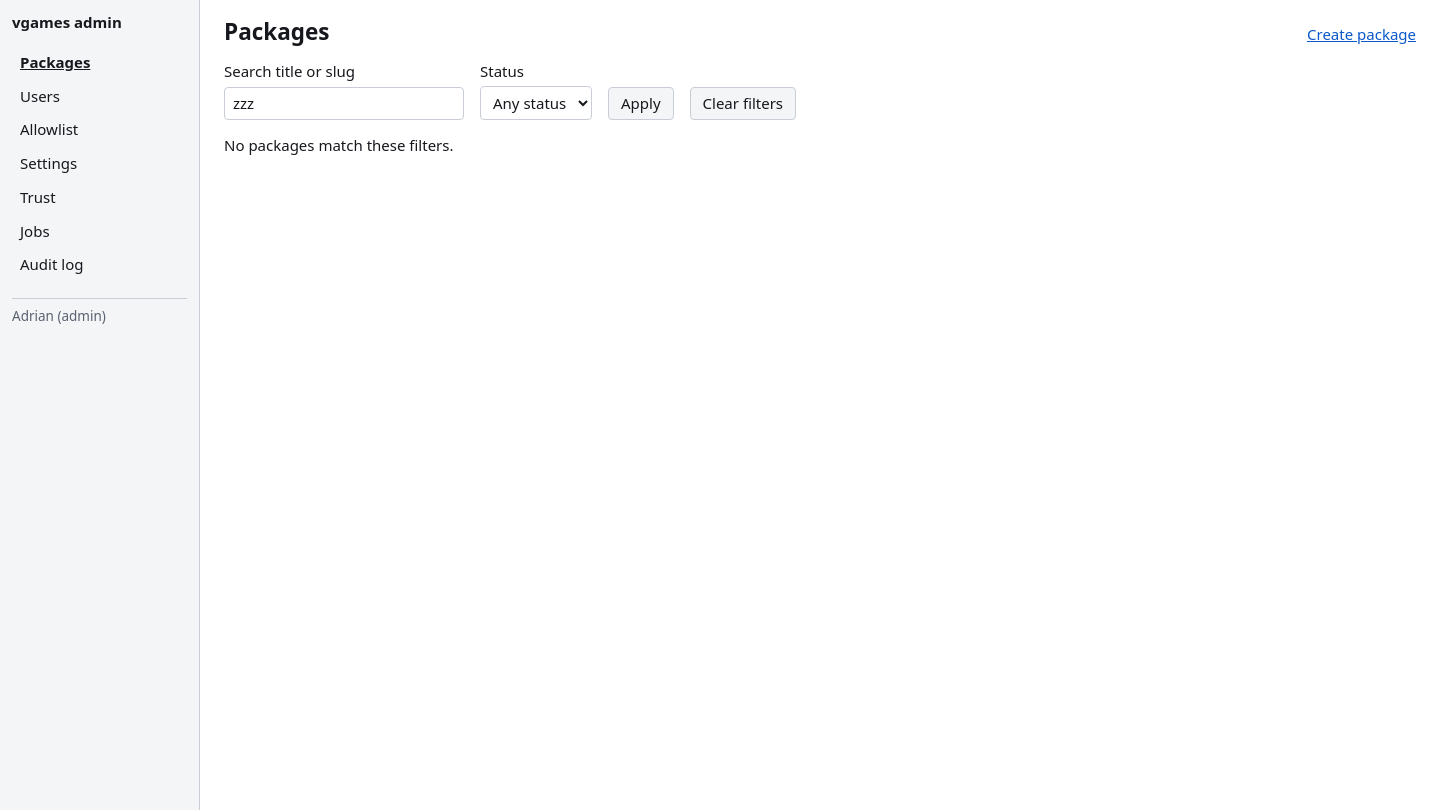
packages list › says when nothing matches, and when there are no packages at all
This screenshot has width=1440, height=810.
Check: the text "No packages match these filters." is shown, box [224,135,454,155]
Click the button "Clear filters".
click(743, 104)  # box [690,87,796,120]
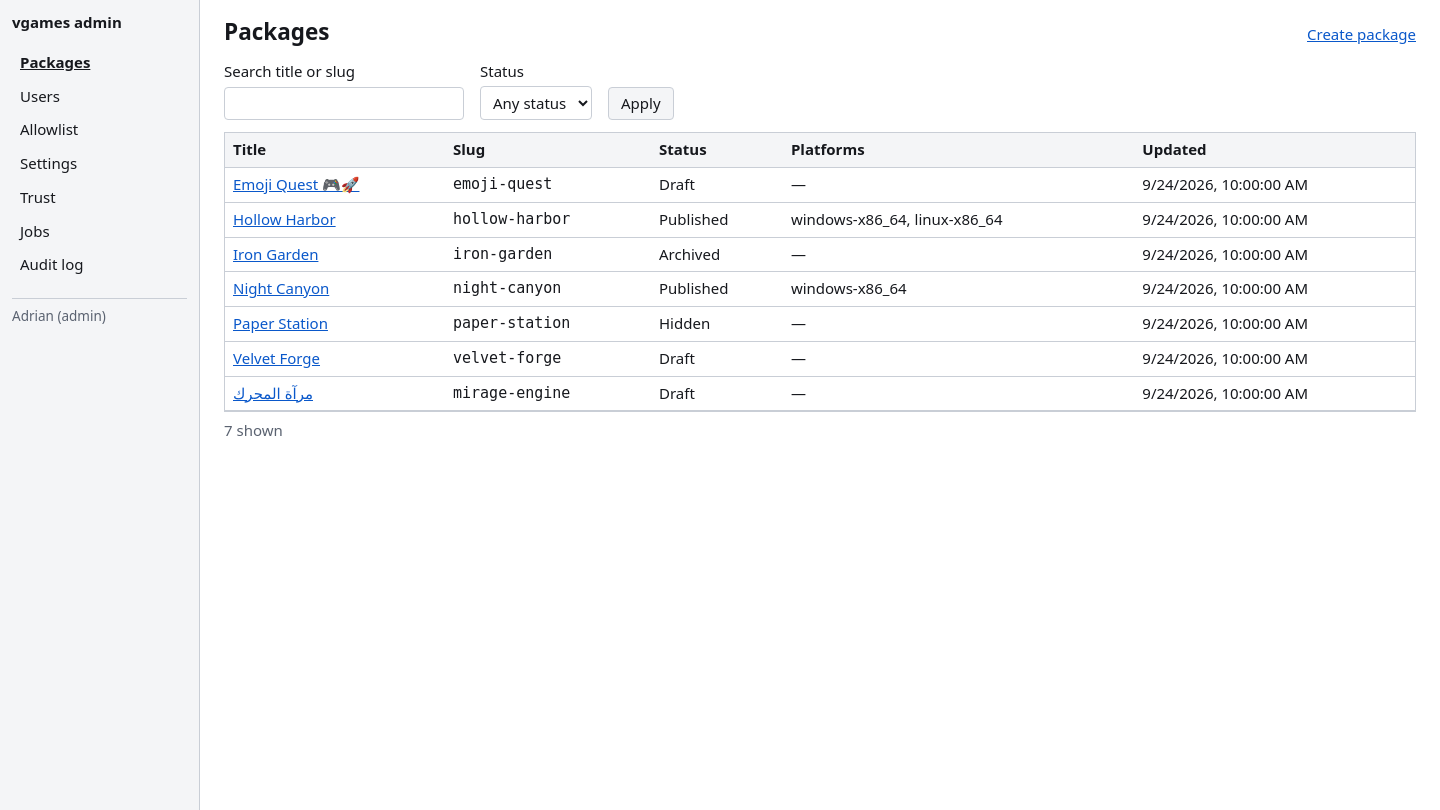
Check: the table is shown, box [225,133,1415,411]
